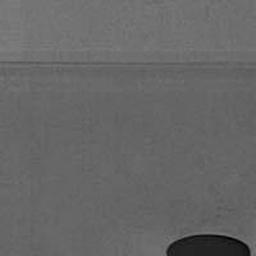Punching: (166, 234, 251, 256)
